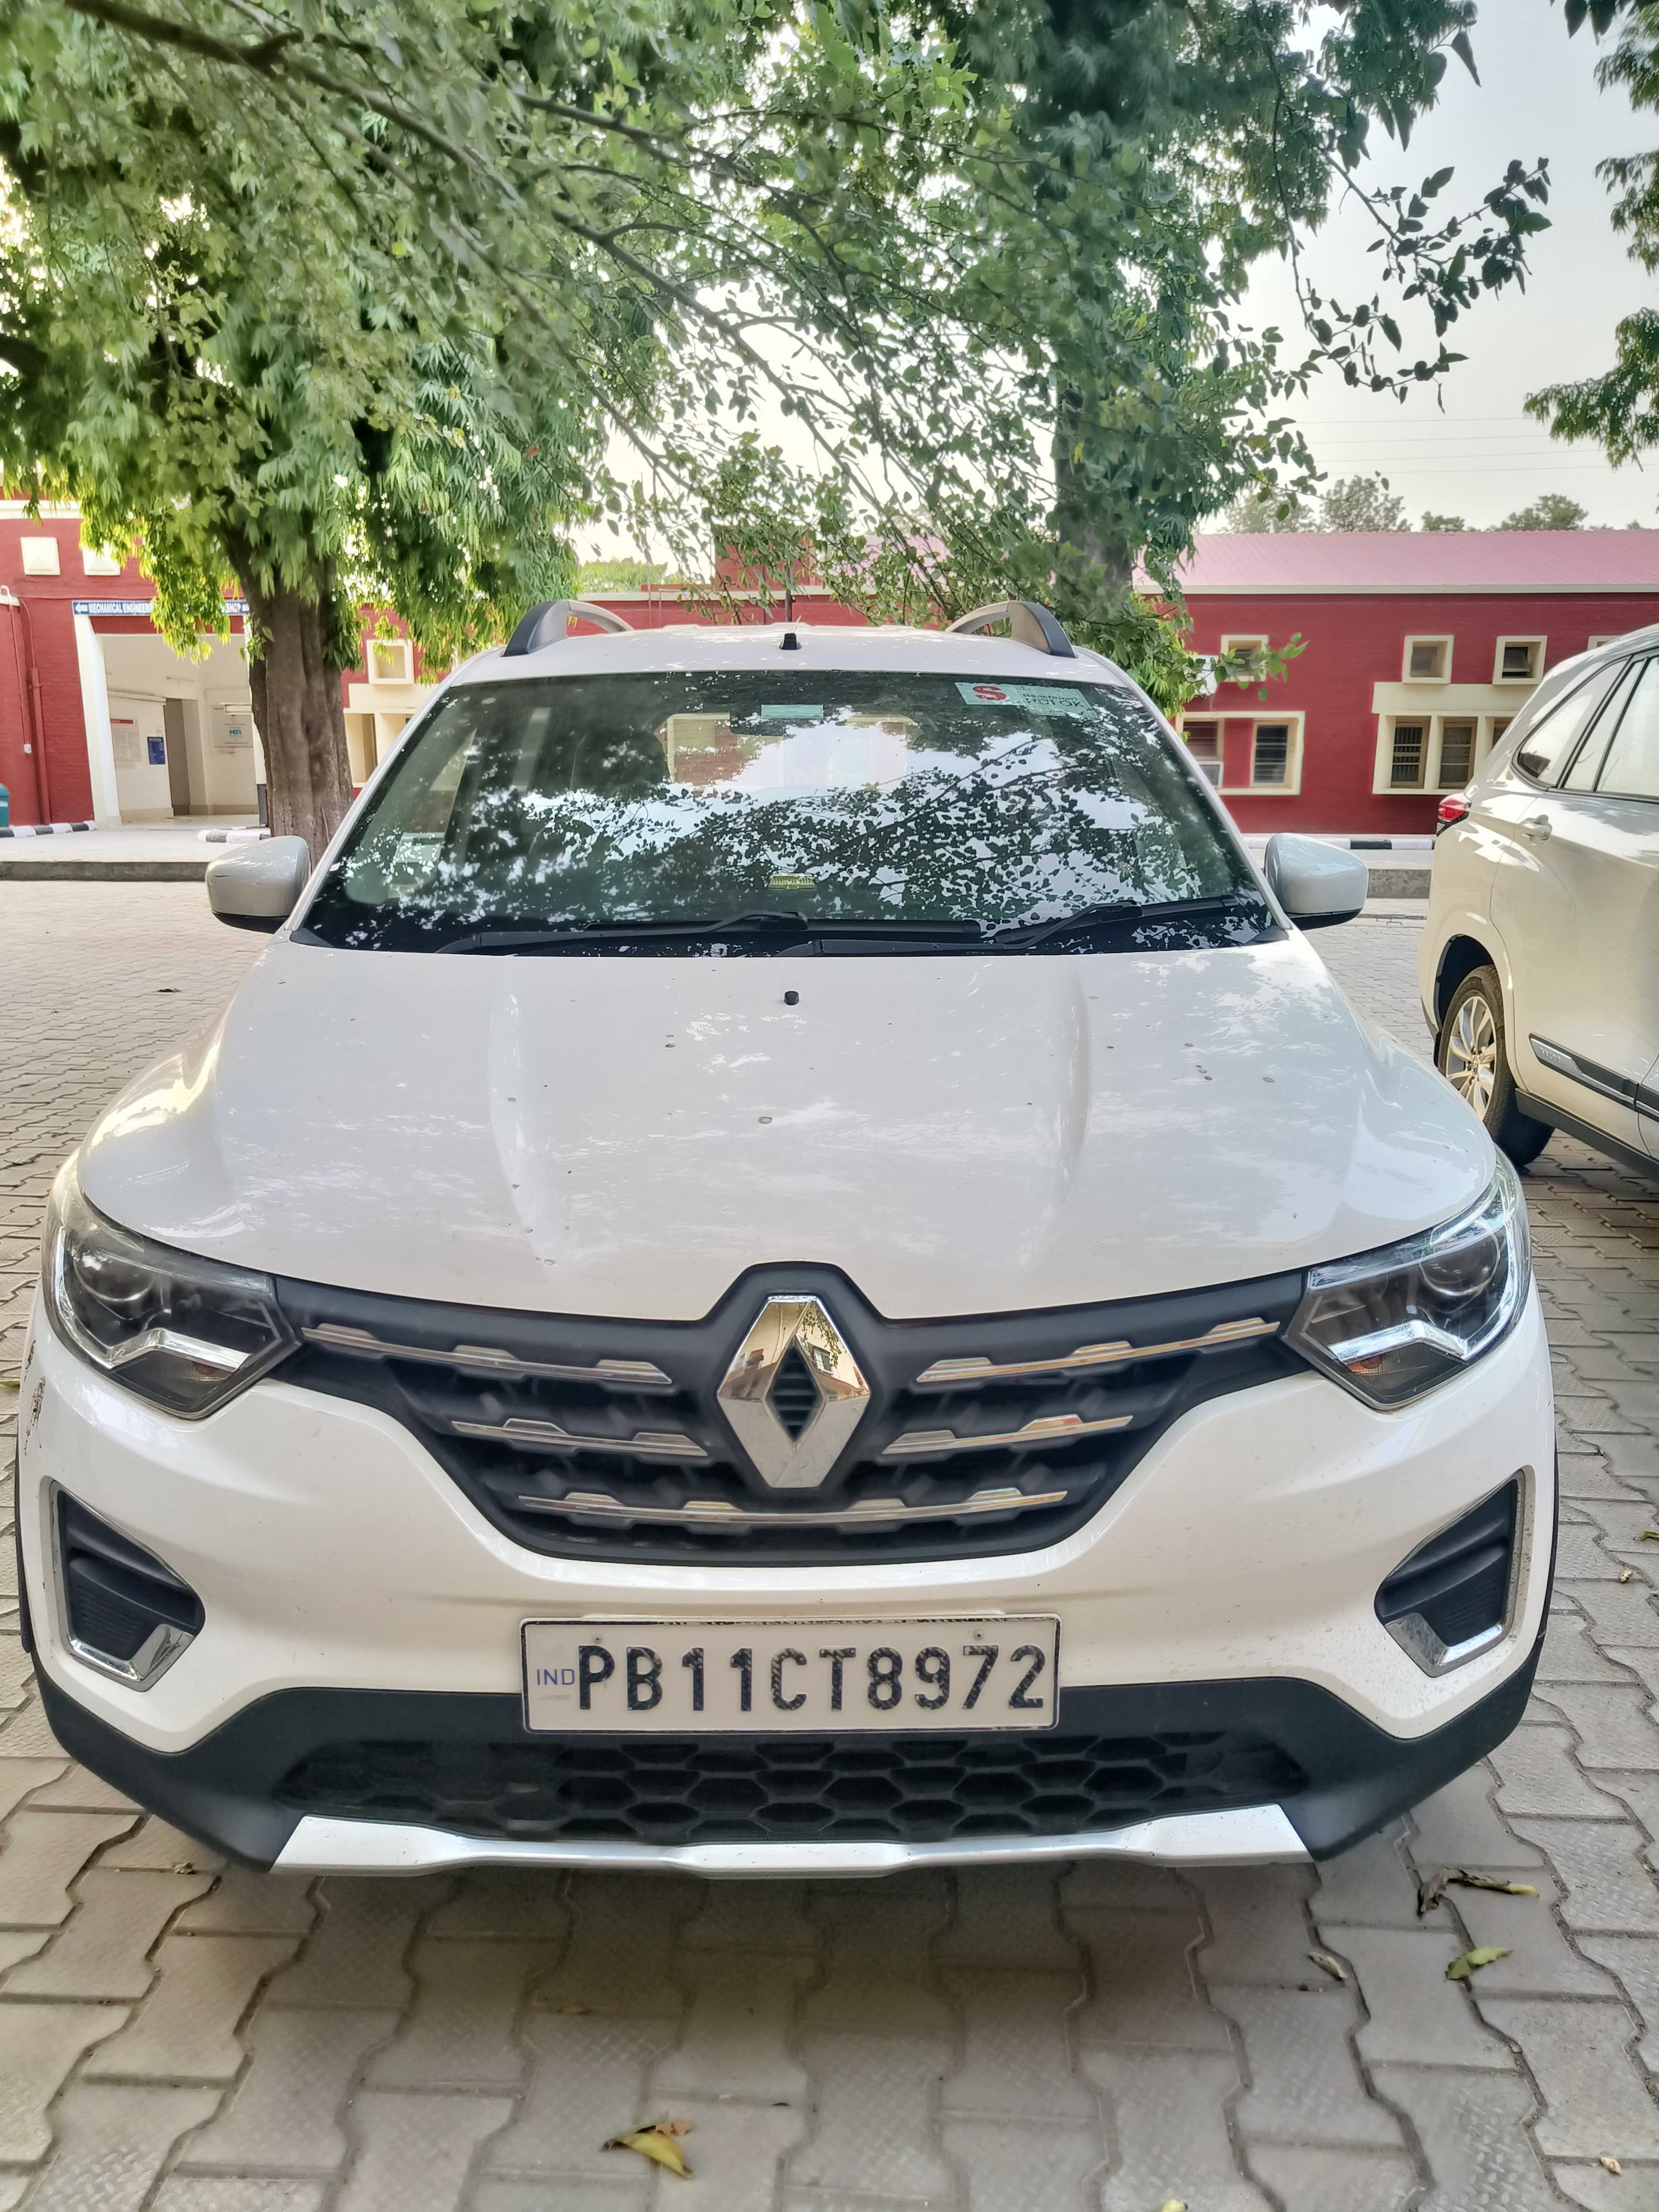license plate: (523, 1618, 1058, 1732)
